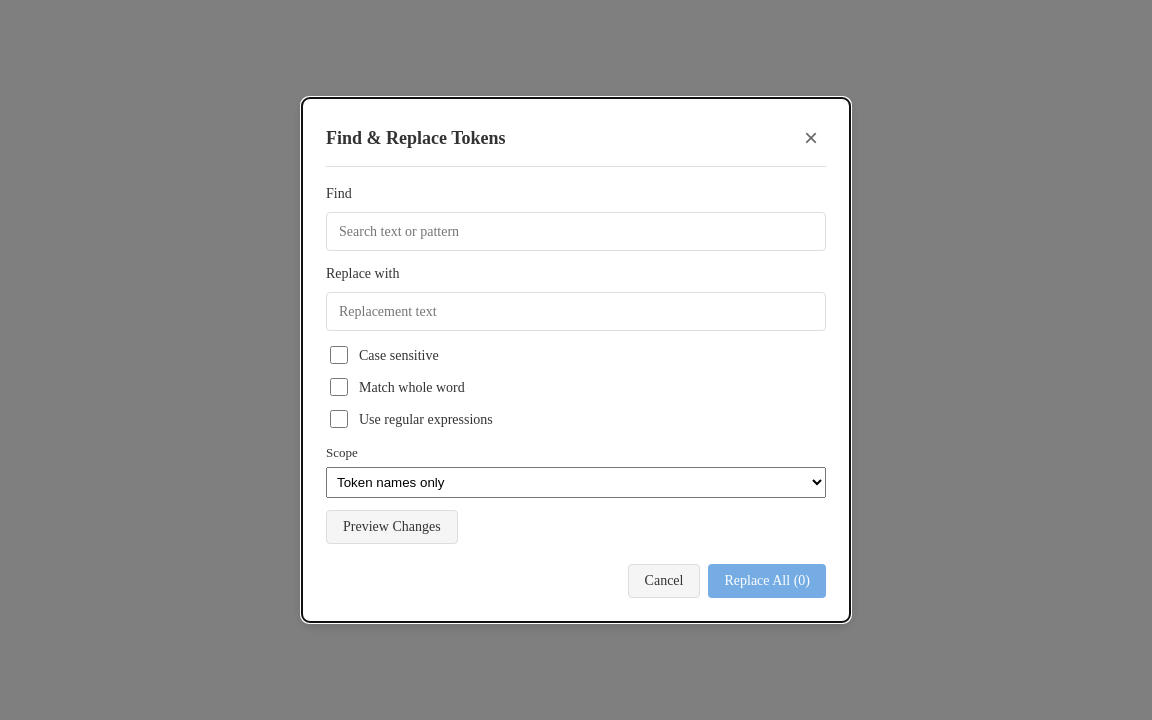
it: FindReplace › Preview Functionality › handles case-sensitive preview
The image size is (1152, 720).
Type "primary" into the field with placeholder "Search text or pattern" at (576, 232), box 326,212 -> 826,251
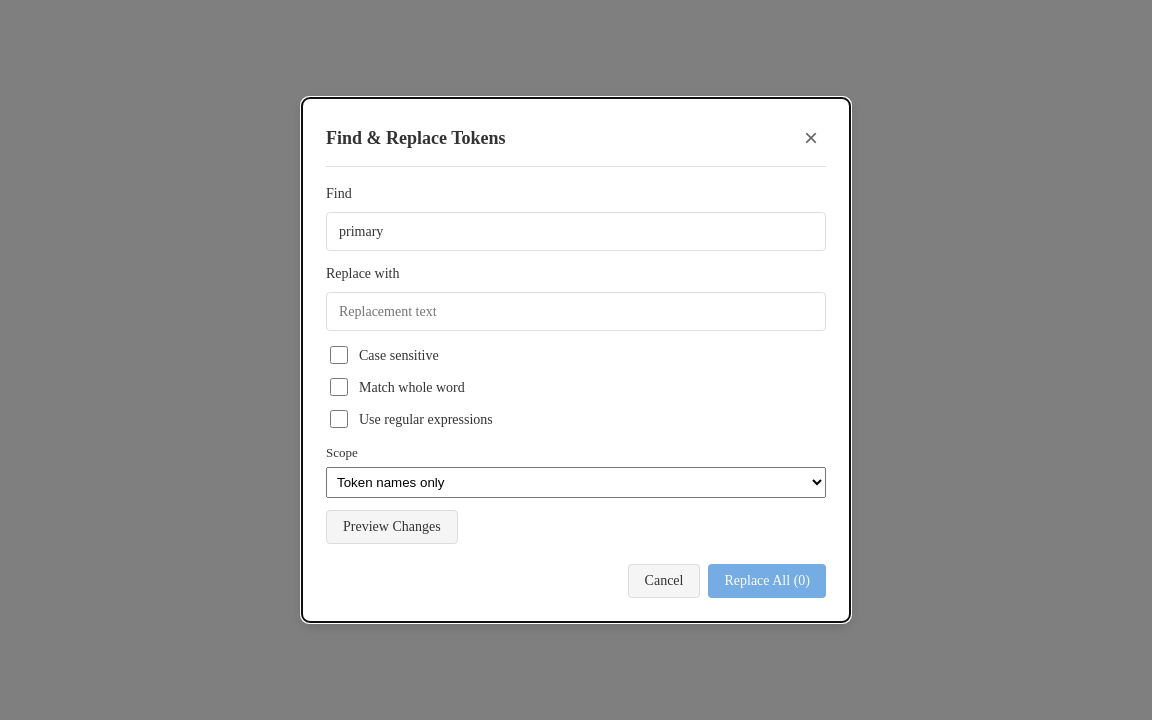
Type "main" into the field with placeholder "Replacement text" at (576, 312), box 326,292 -> 826,331
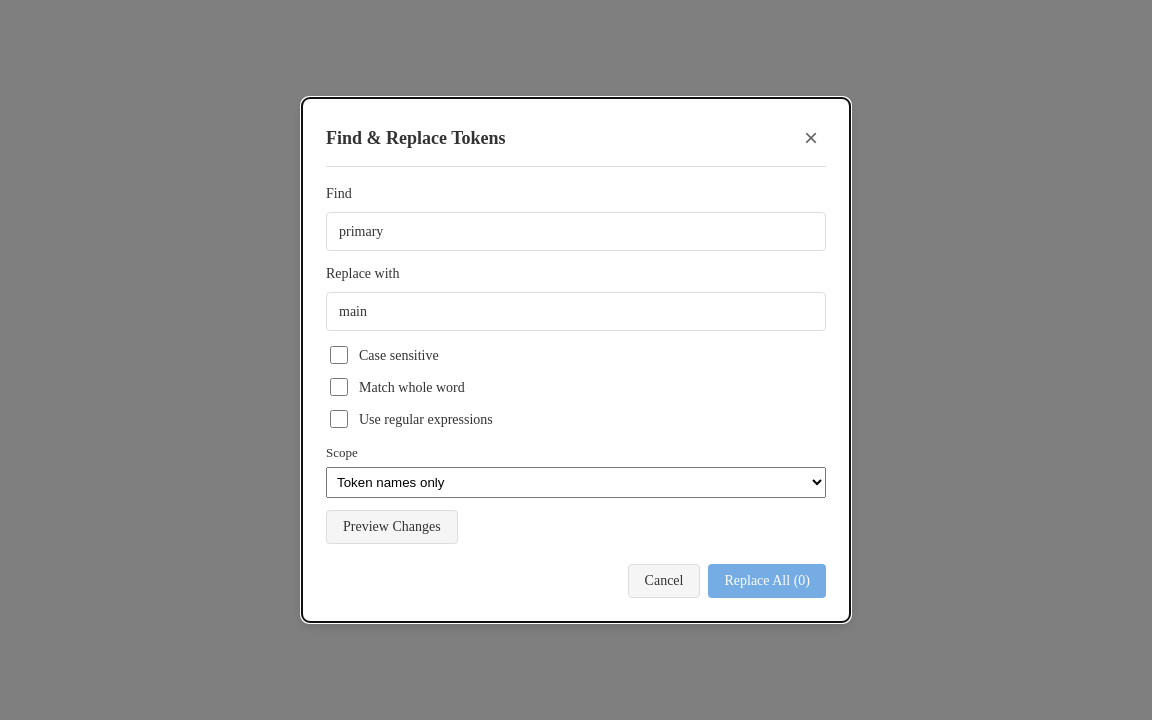
Click the checkbox labelled "Case sensitive" at (339, 355), box 330,346 -> 348,364
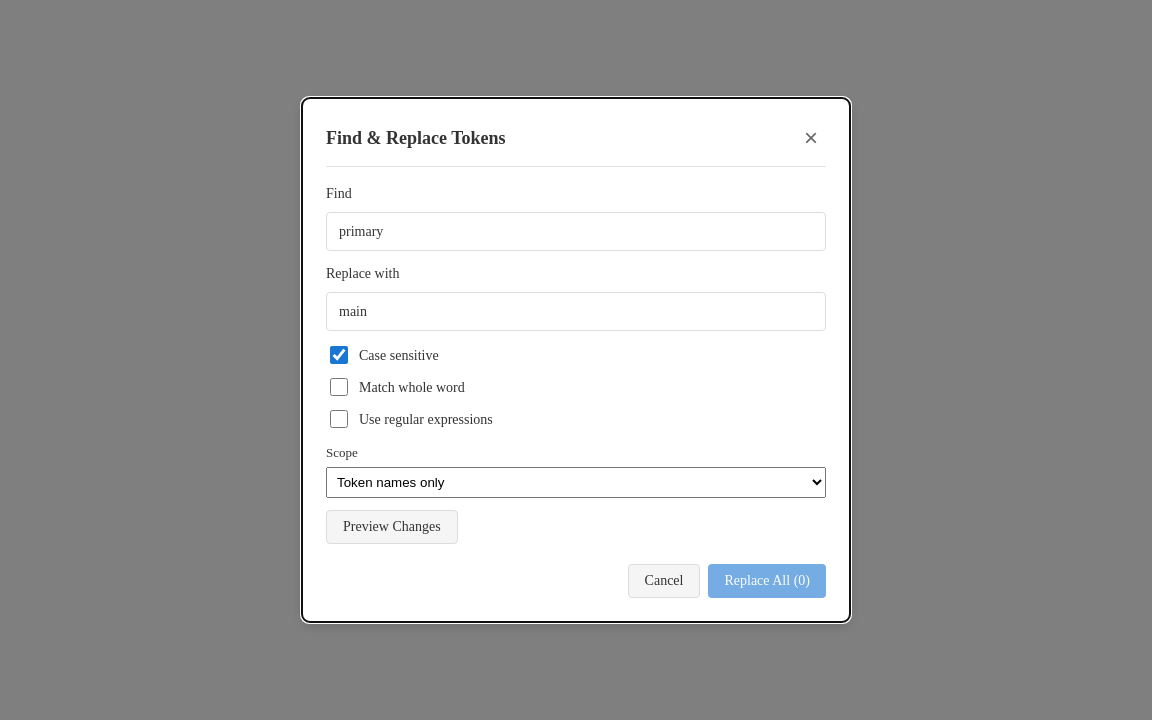
Click the button "Preview Changes" at (392, 527), box 326,510 -> 458,544
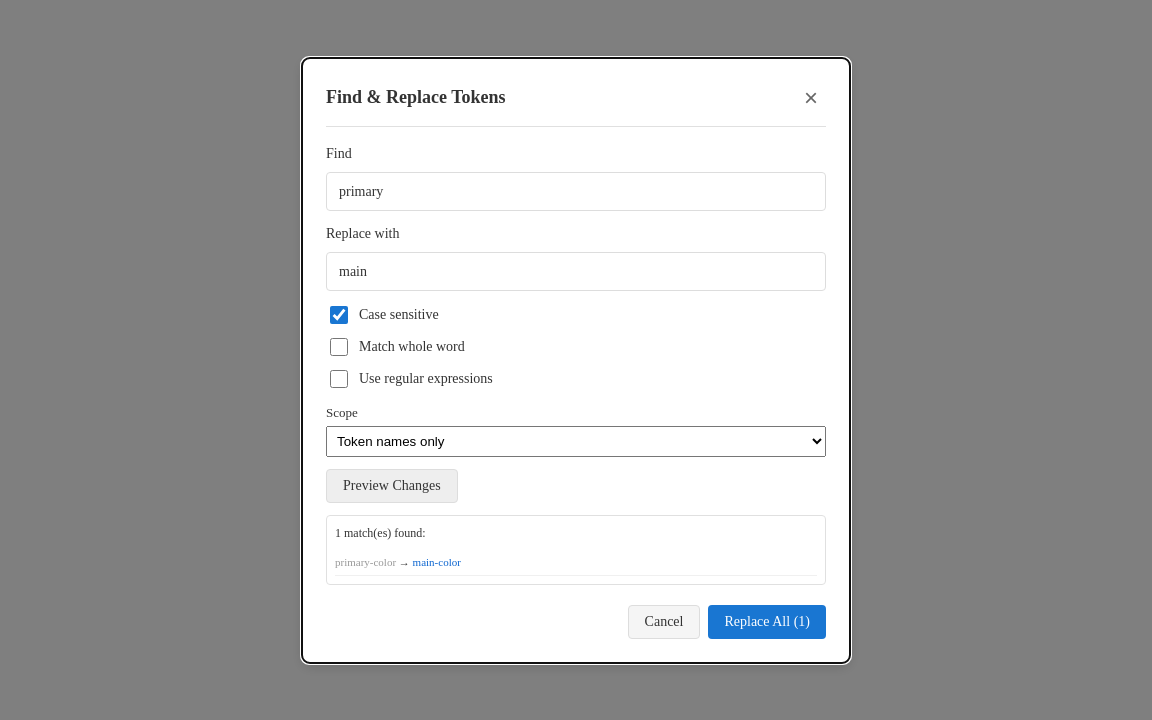
Expected: the text "1 match(es) found:" is shown, 335,526 -> 426,540
